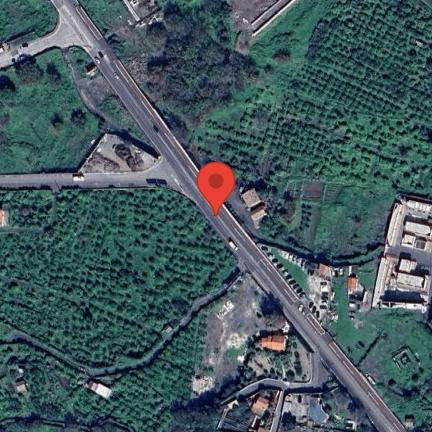area_open: (260, 248, 326, 323), (84, 135, 158, 172), (290, 390, 324, 422), (231, 276, 258, 307)
built: (370, 254, 432, 314), (386, 193, 432, 247), (115, 0, 160, 29), (402, 222, 432, 253), (258, 335, 288, 353), (240, 186, 261, 209), (215, 302, 234, 325), (250, 397, 268, 421), (283, 252, 305, 271), (192, 378, 215, 396), (248, 208, 268, 228), (396, 351, 417, 367), (90, 383, 111, 398), (349, 267, 358, 299), (80, 63, 97, 77), (317, 264, 331, 280), (0, 204, 9, 228), (0, 38, 12, 55), (344, 415, 357, 430), (402, 417, 418, 429), (15, 382, 27, 395), (281, 404, 291, 417), (303, 419, 316, 427), (320, 282, 328, 293), (367, 375, 374, 383), (259, 427, 271, 431), (289, 394, 295, 400), (251, 430, 268, 432), (370, 383, 375, 385)
vegetation_high: (1, 188, 244, 367), (209, 0, 431, 187), (0, 298, 220, 432), (150, 0, 259, 127)
vegetation_low: (186, 0, 339, 205), (0, 50, 149, 172), (194, 296, 320, 402), (79, 0, 182, 129), (261, 181, 432, 256), (329, 316, 432, 416), (0, 0, 58, 40), (322, 381, 367, 428), (193, 398, 251, 432), (384, 341, 421, 380), (380, 315, 412, 344), (331, 279, 349, 327), (360, 252, 377, 289)
